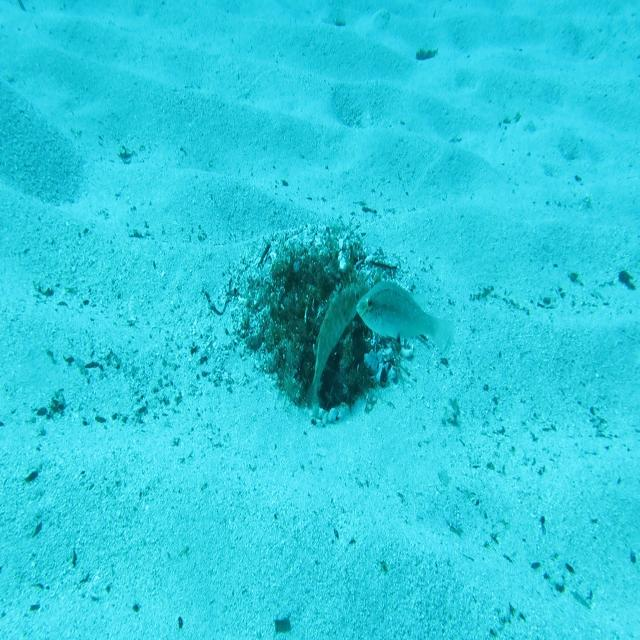LF: (303, 276, 370, 422)
core_nest: (295, 265, 339, 297)
female: (354, 276, 457, 364)
nest: (222, 207, 420, 438)
vegetation: (413, 46, 439, 64), (618, 269, 636, 291), (274, 615, 290, 631)
